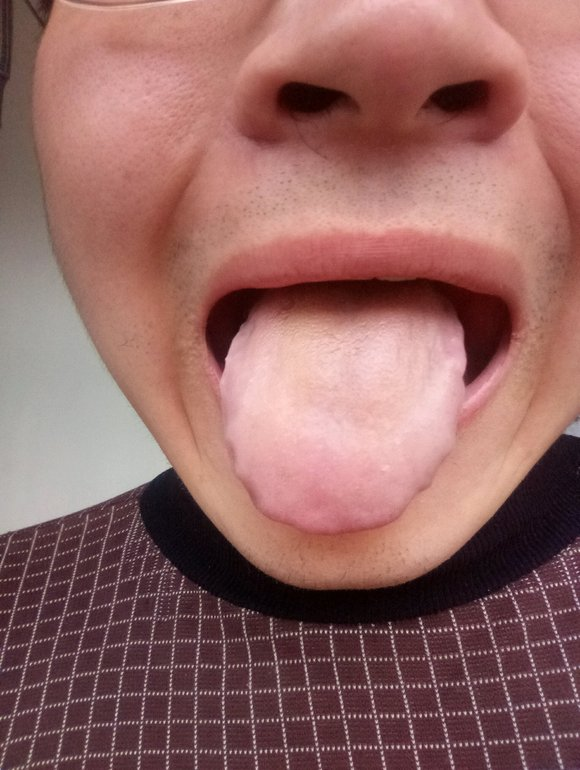baitaishe: (219, 286, 466, 534)
chihenshe: (399, 364, 468, 521), (218, 388, 259, 509)
